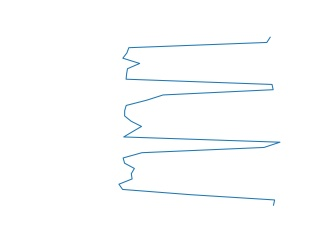majorRiverChannelBar: (117, 37, 282, 205)
